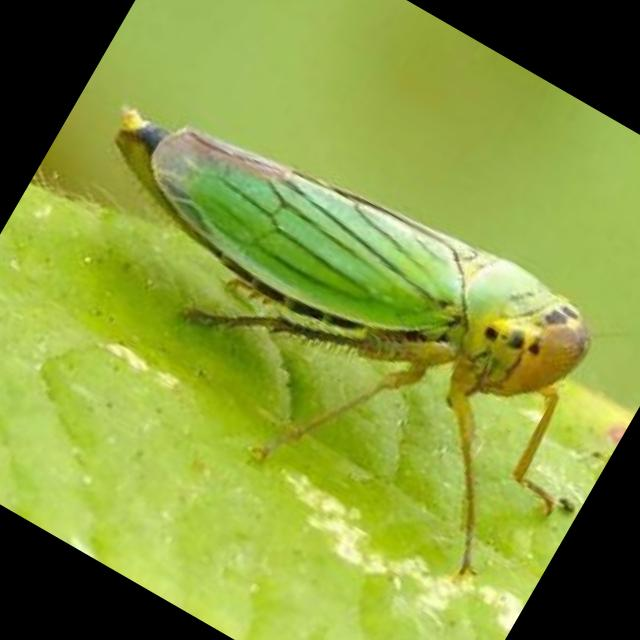green-leafhopper: (52, 55, 618, 498)
